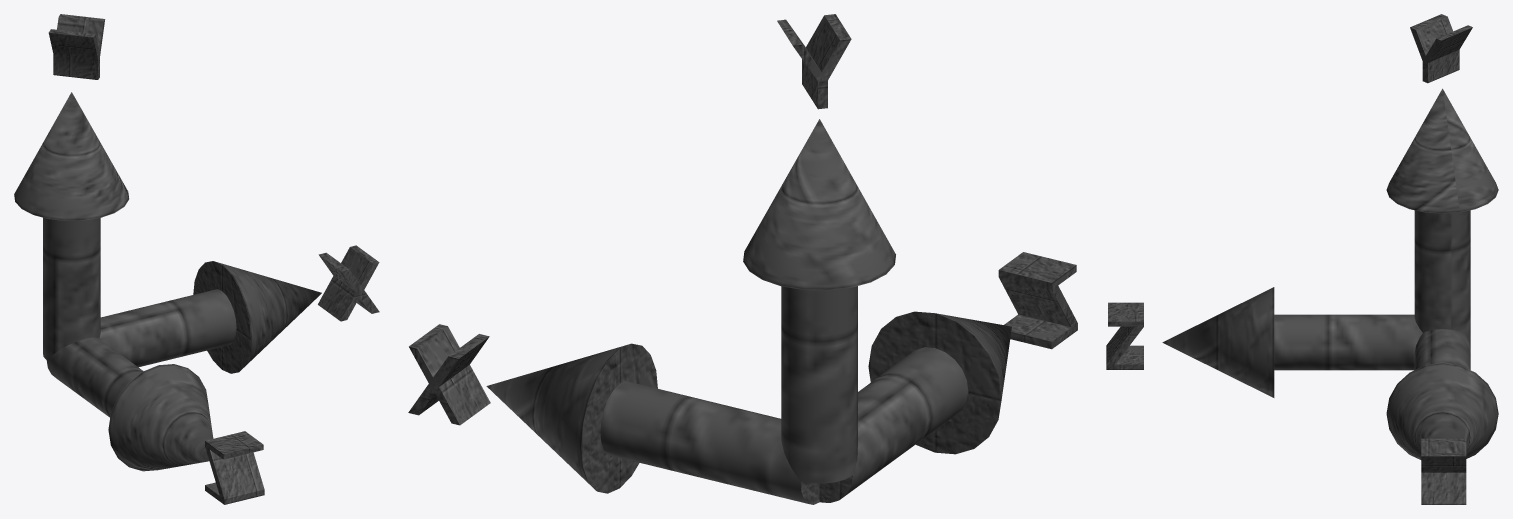
File: axes.fbx
The picture shows the model from 3 angles, left to right: view 1: azimuth 30°, elevation 25°; view 2: azimuth 150°, elevation 25°; view 3: azimuth 270°, elevation 25°; orthographic projection. The views are drawn at different scales.
Parts seen in each view (by area): view 1: pCone1 (×3), pCylinder1 (×3), typeMesh3, typeMesh1, typeMesh2; view 2: pCylinder1 (×3), pCone1 (×3), typeMesh3, typeMesh2, typeMesh1; view 3: pCone1 (×3), pCylinder1 (×3), typeMesh2, typeMesh1, typeMesh3.
Part boxes in pixels (<box>): pCone1 (×3): <box>14,92,321,471</box>; pCylinder1 (×3): <box>43,217,236,417</box>; typeMesh3: <box>205,431,264,504</box>; typeMesh1: <box>48,14,105,79</box>; typeMesh2: <box>318,245,379,321</box>; pCylinder1 (×3): <box>600,286,968,504</box>; pCone1 (×3): <box>486,119,1011,493</box>; typeMesh3: <box>998,252,1077,349</box>; typeMesh2: <box>408,324,490,425</box>; typeMesh1: <box>777,14,851,109</box>; pCone1 (×3): <box>1162,88,1498,459</box>; pCylinder1 (×3): <box>1274,210,1470,370</box>; typeMesh2: <box>1421,438,1466,504</box>; typeMesh1: <box>1410,14,1472,83</box>; typeMesh3: <box>1106,302,1143,369</box>.
Size of the model in its own units: 0.8661 by 0.9053 by 0.8742.
1 material, 1 textured.
